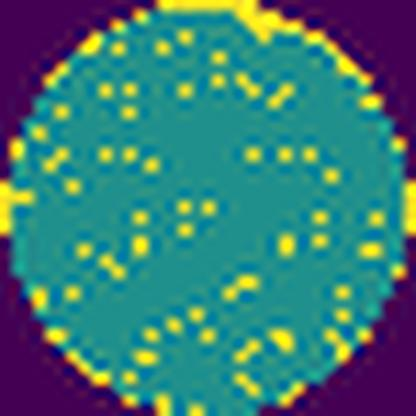Edge-Loc: (151, 0, 375, 91)
